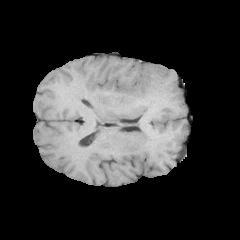glioma: (78, 63, 175, 128)
